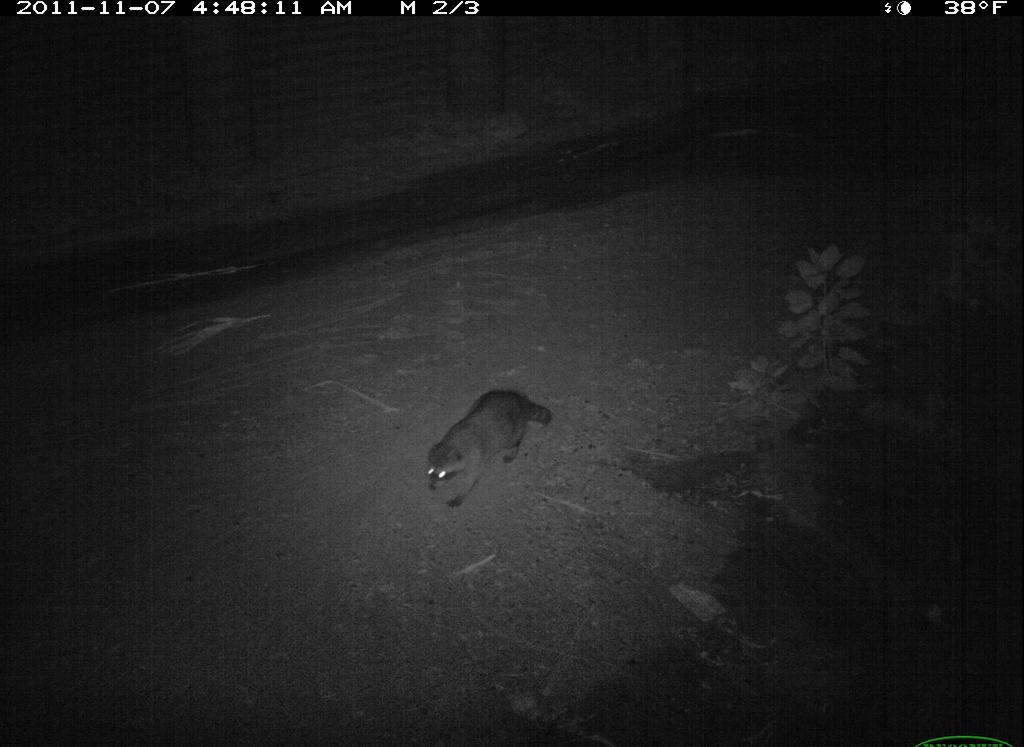raccoon: (417, 377, 559, 514)
